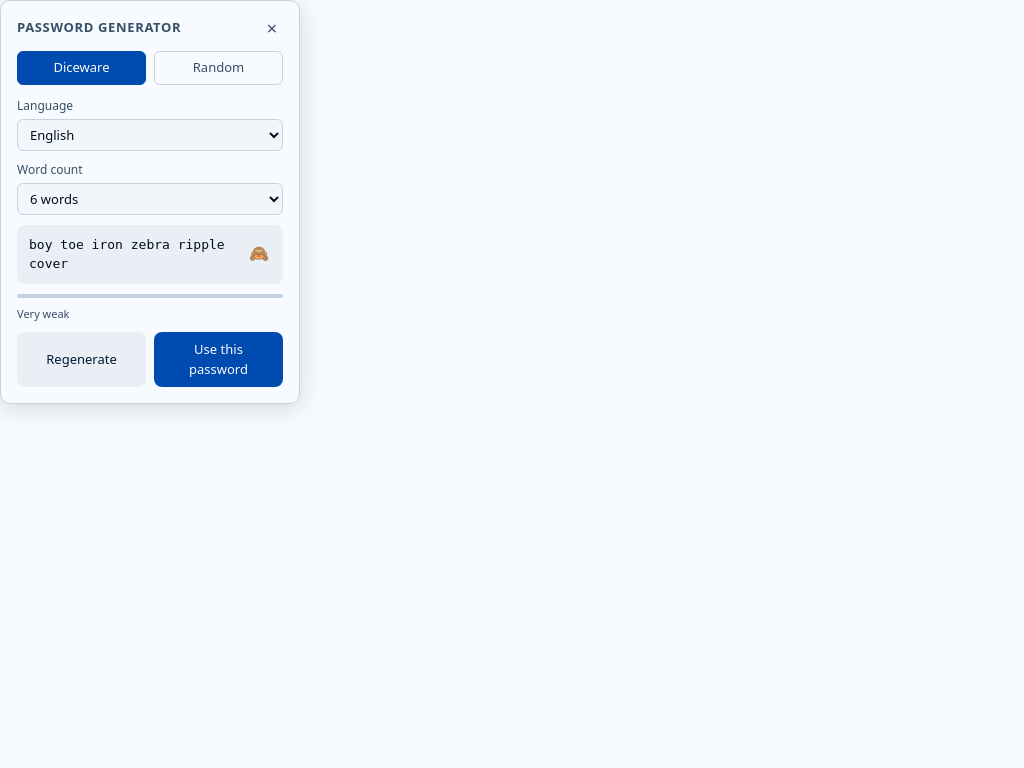
Test: GeneratorPanel — 모드 전환 › Random 버튼 클릭 시 Length 슬라이더 표시
The width and height of the screenshot is (1024, 768).
Click the button "Random" at [218, 68], box [154,51,283,84]
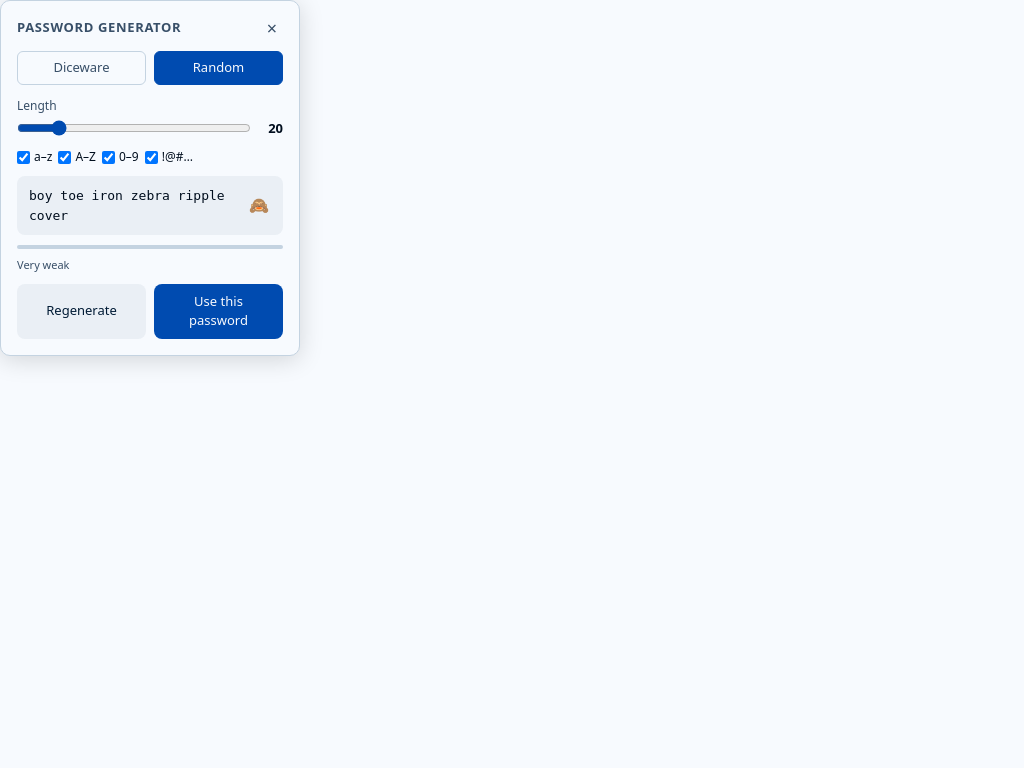
Check: the slider labelled "Length" is shown, box [17,120,251,136]
